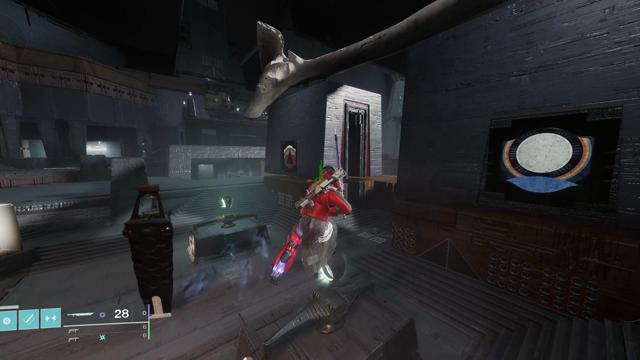pyramid: (284, 145, 297, 169)
traveler: (497, 127, 595, 193)
